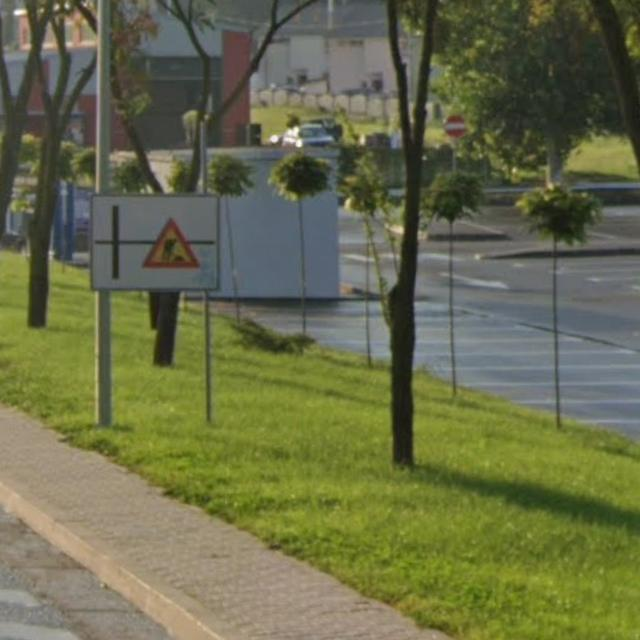warn_construction: (142, 218, 202, 268)
